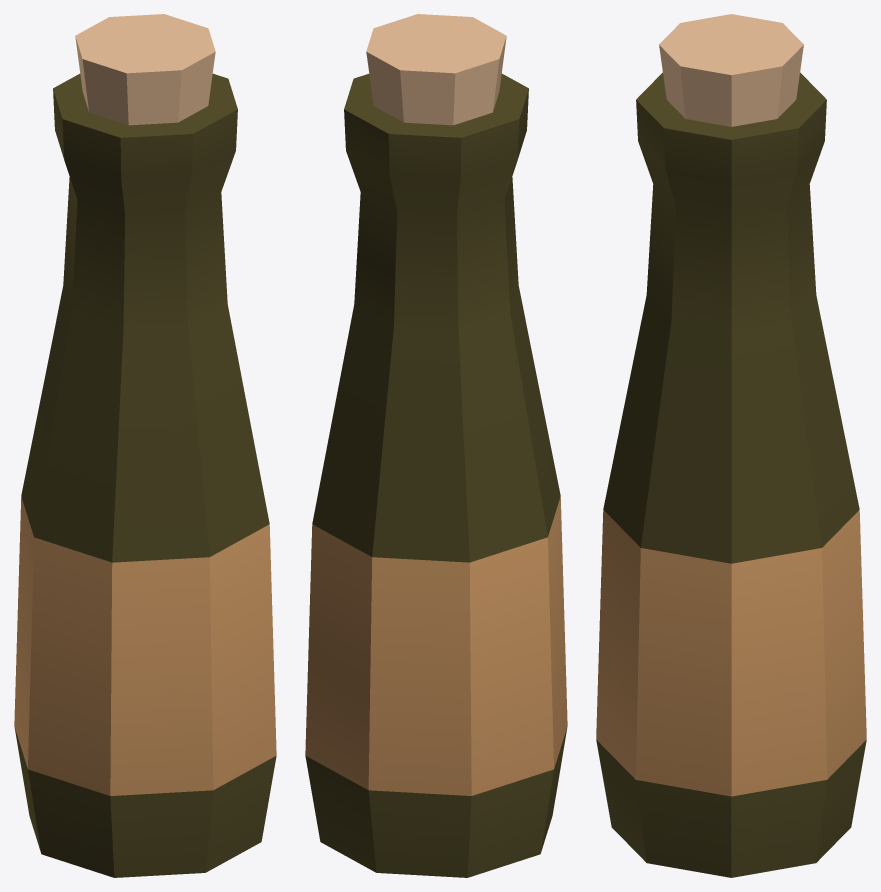
Rendered from Bottle1.fbx.
3 views of the same model, side by side, from view 1: azimuth 30°, elevation 25°; view 2: azimuth 150°, elevation 25°; view 3: azimuth 270°, elevation 25° (orthographic).
Parts seen in each view (by area): view 1: Bottle.002; view 2: Bottle.002; view 3: Bottle.002.
Part boxes in pixels (<box>): Bottle.002: <box>14,14,276,877</box>; Bottle.002: <box>305,14,567,877</box>; Bottle.002: <box>596,14,866,877</box>.
Bounding box in the file's own units: 24.1 × 76.89 × 24.1.
